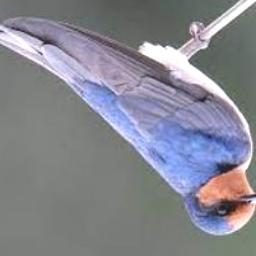Swallow: (0, 15, 256, 235)
